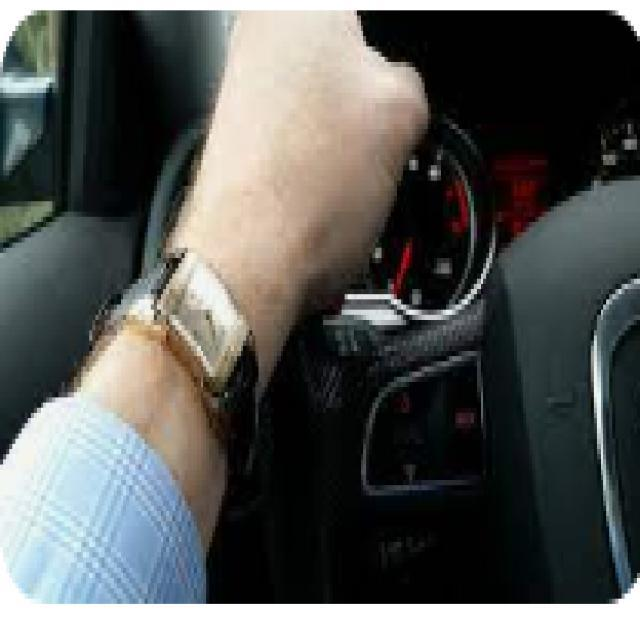Watch: (102, 247, 262, 487)
